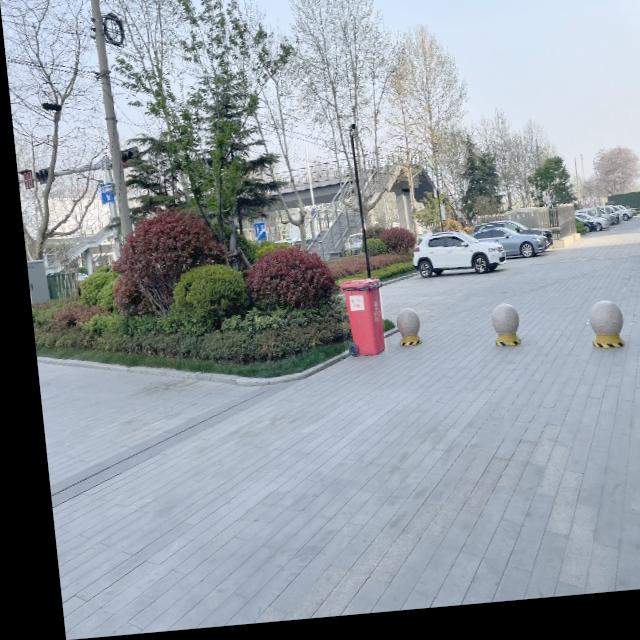garbage_bin: (331, 283, 380, 363)
